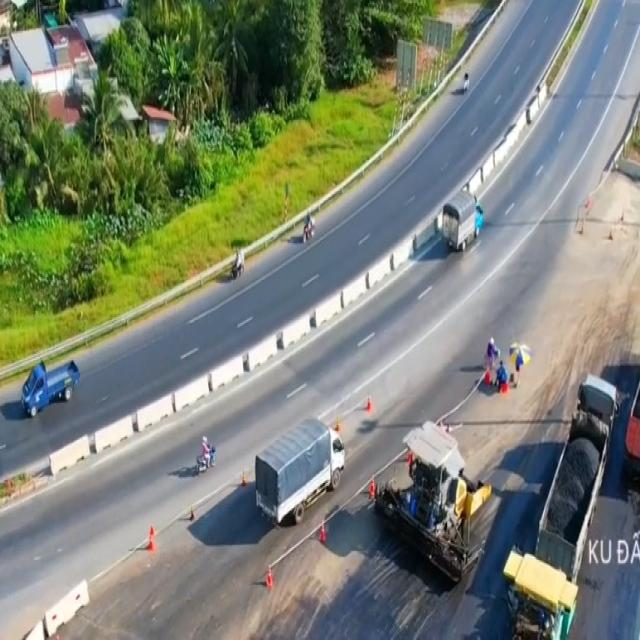motorbike: (194, 430, 218, 480), (301, 212, 316, 244), (230, 247, 244, 280)
truck: (256, 418, 345, 532), (20, 358, 80, 417), (441, 187, 484, 254)
